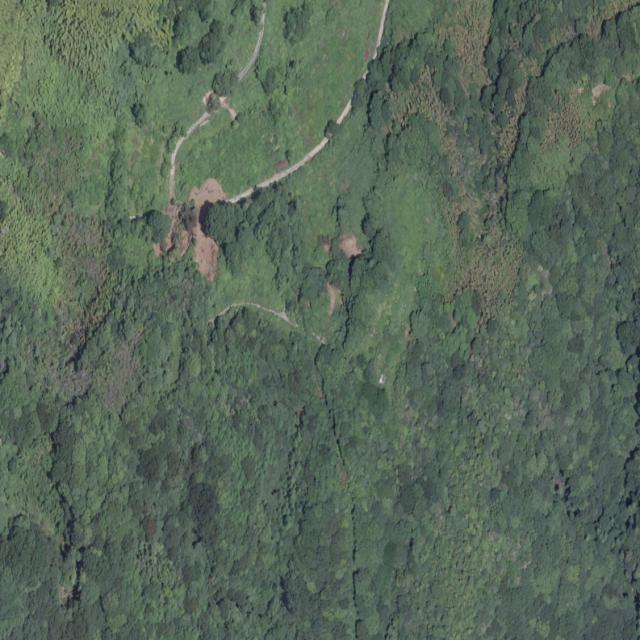landslide: (194, 213, 219, 281)
